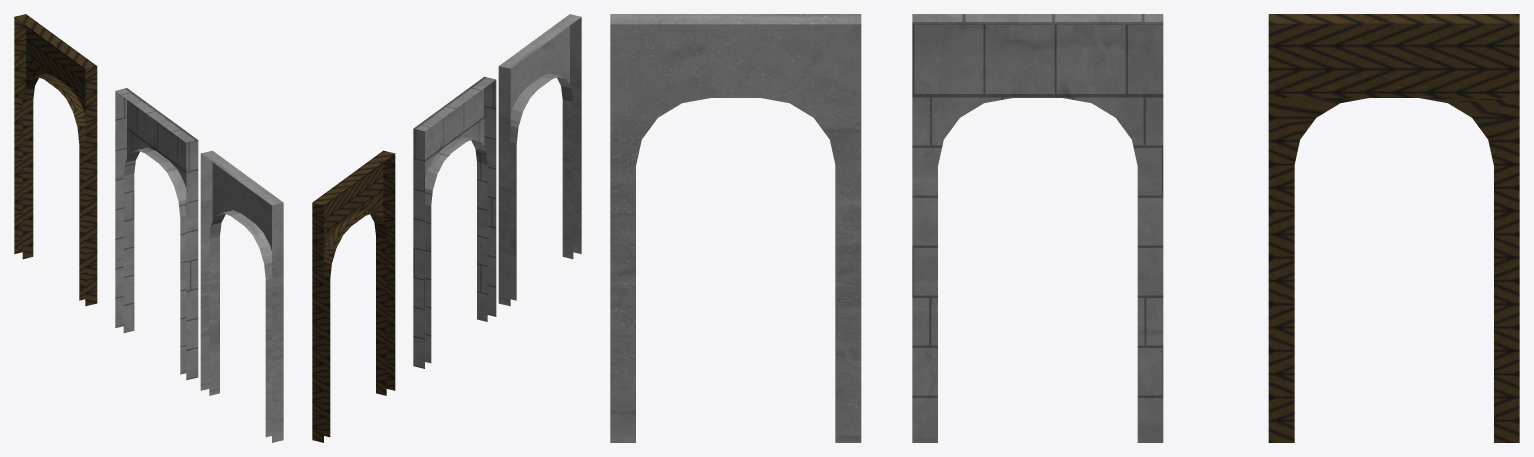
The model's file is Arches.fbx.
3 renders of one model, left to right at view 1: azimuth 30°, elevation 25°; view 2: azimuth 150°, elevation 25°; view 3: azimuth 270°, elevation 25°, orthographic. The views are drawn at different scales.
Parts seen in each view (by area): view 1: WallArch, WallArch.001, WallArch.002; view 2: WallArch.002, WallArch, WallArch.001; view 3: WallArch.001, WallArch, WallArch.002.
Boxes of the visible parts, <box> form: WallArch: <box>14,14,97,306</box>; WallArch.001: <box>115,88,198,380</box>; WallArch.002: <box>200,150,283,442</box>; WallArch.002: <box>498,14,581,306</box>; WallArch: <box>312,150,395,442</box>; WallArch.001: <box>413,76,496,368</box>; WallArch.001: <box>912,14,1163,442</box>; WallArch: <box>1268,14,1519,442</box>; WallArch.002: <box>610,14,861,442</box>.
Size of the model in its own units: 12 by 230 by 453.
